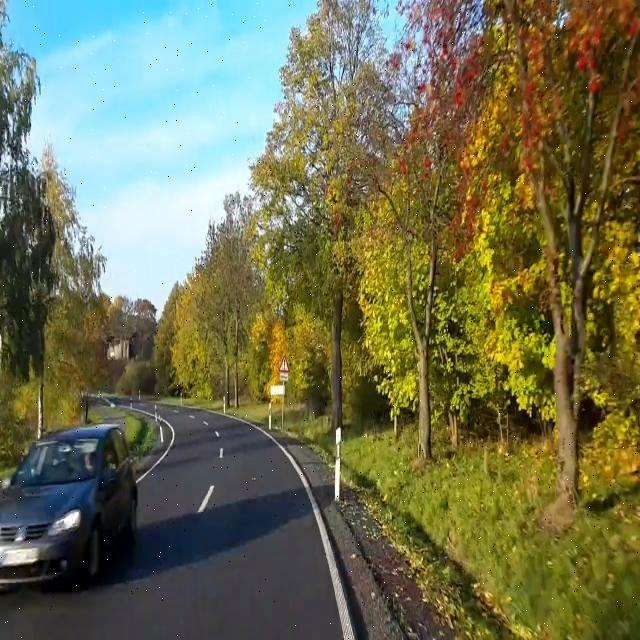lane: (248, 422, 356, 639), (136, 416, 175, 483), (198, 485, 213, 512)
road: (0, 406, 342, 639)
